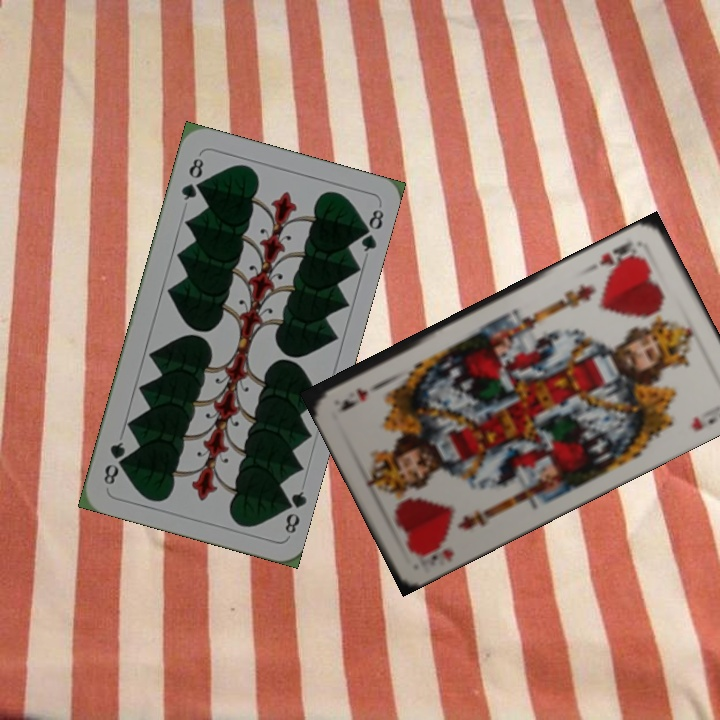G8: (276, 487, 309, 536), (177, 151, 206, 203)
HK: (595, 237, 642, 274), (413, 544, 457, 570)
